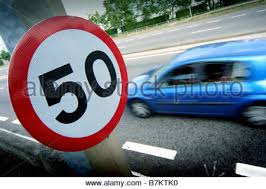Speed_limit_50km: (7, 15, 129, 151)
